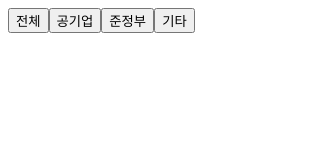
Test case: institution type filters › toggles a legal type on and off
Later steps or results of the test are not shown.
Click the button "공기업" at (75, 20), box [48, 8, 101, 33]
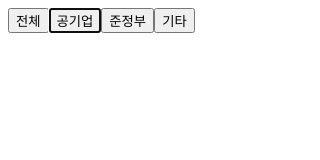
Now the button "공기업" is pressed, box [48, 8, 101, 33]
Now the button "전체" is not pressed, box [8, 8, 48, 33]
